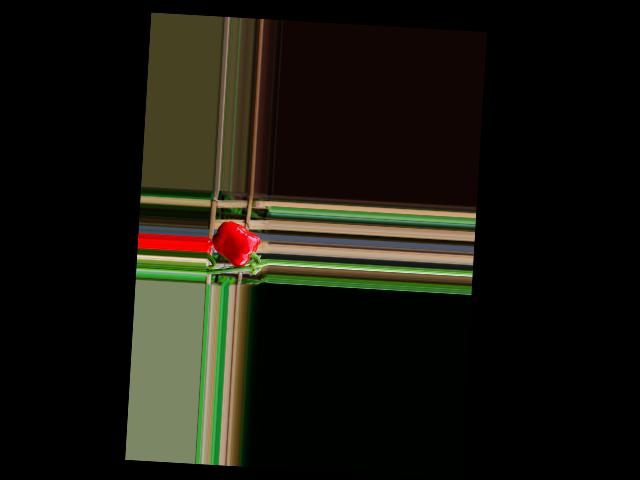bell_pepper: (211, 217, 261, 271)
